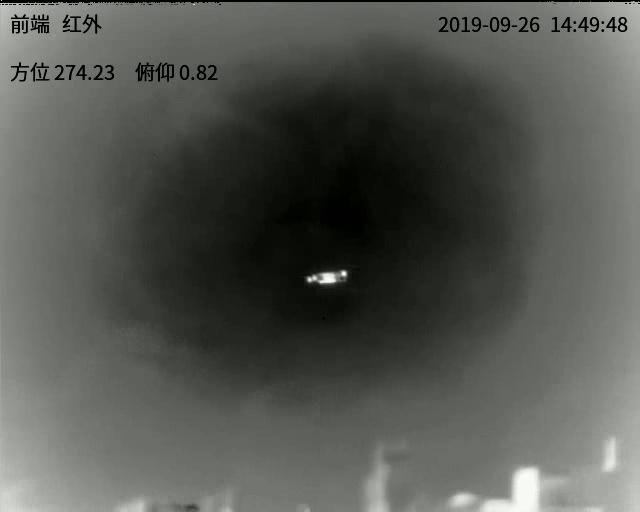DRONE: (303, 267, 349, 285)
